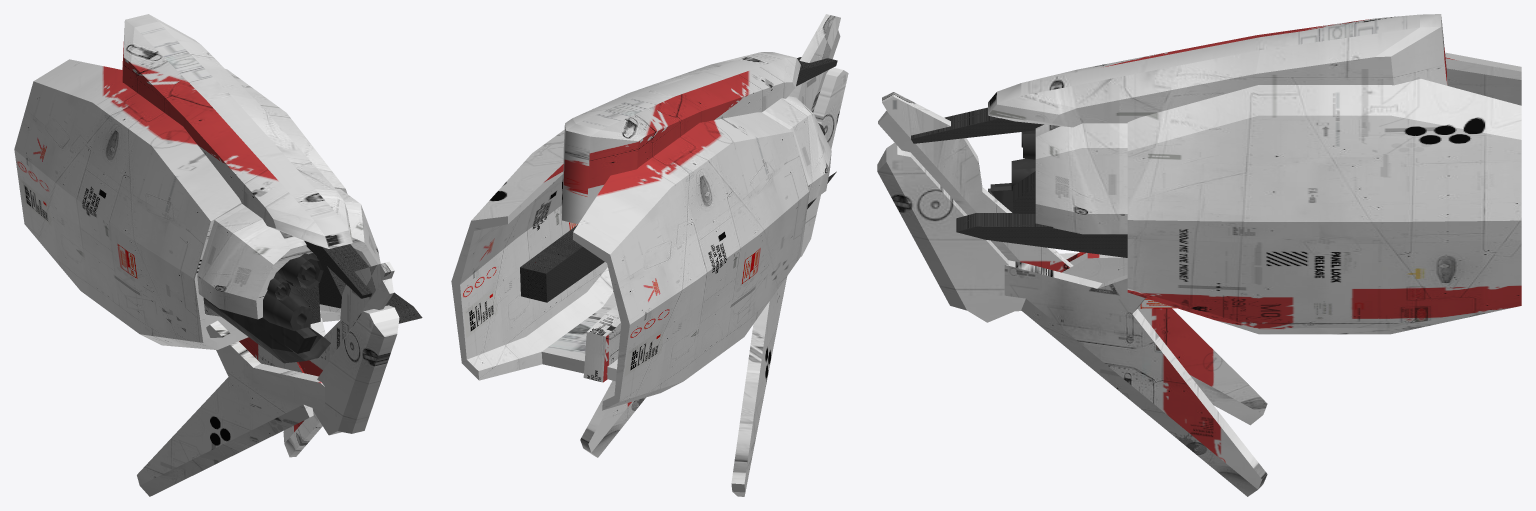
File: head01.FBX
3 renders of one model, left to right at view 1: azimuth 30°, elevation 25°; view 2: azimuth 150°, elevation 25°; view 3: azimuth 270°, elevation 25°, orthographic. The views are drawn at different scales.
Visible parts, largest first — view 1: head01; view 2: head01; view 3: head01.
Boxes of the visible parts, <box> form: head01: <box>14,14,422,496</box>; head01: <box>451,14,848,496</box>; head01: <box>877,14,1521,496</box>.
Bounding box in the file's own units: 164 × 337 × 445.
